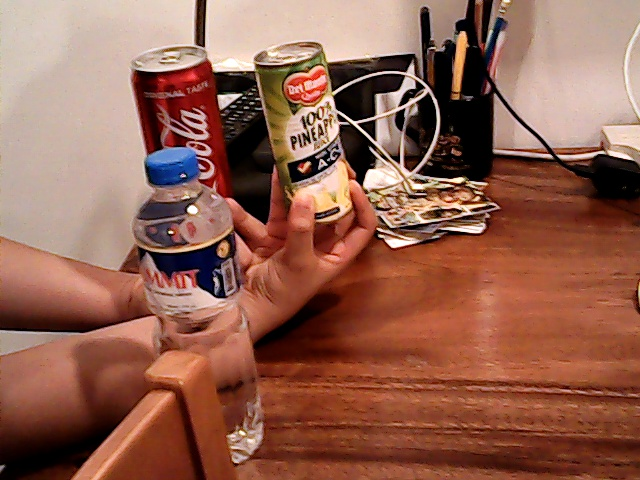Cola: (129, 29, 209, 155)
Pine Juice: (260, 37, 368, 222)
Summit Water: (129, 161, 261, 428)
